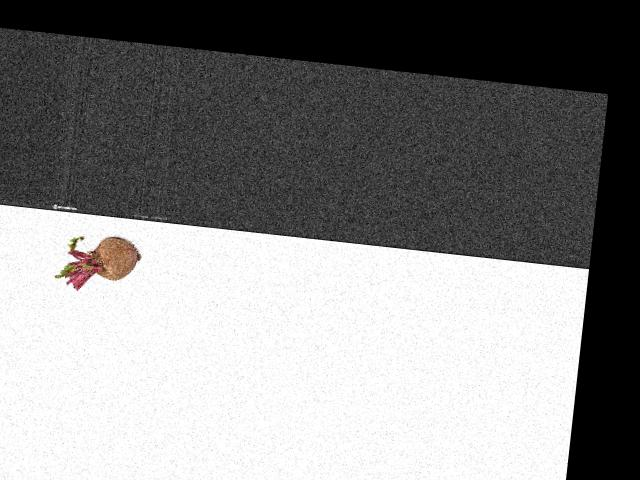beet: (53, 230, 143, 297)
